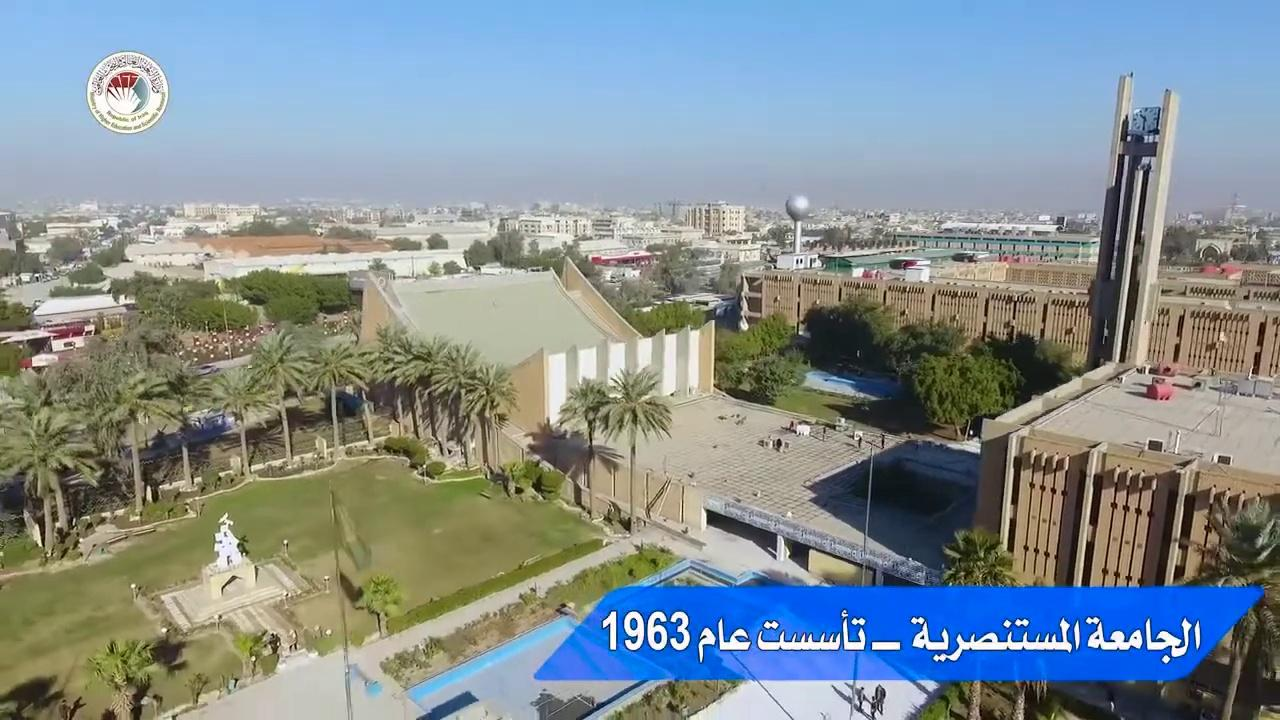fountain: (399, 610, 679, 717)
tree: (1170, 487, 1279, 718), (367, 321, 518, 473), (0, 368, 100, 563), (937, 525, 1025, 718), (597, 364, 673, 534), (98, 370, 180, 516), (911, 348, 1021, 440), (145, 353, 211, 489), (246, 328, 309, 464), (556, 374, 614, 516), (303, 341, 369, 460), (207, 364, 271, 475), (458, 362, 519, 477), (428, 340, 485, 462), (400, 332, 454, 449), (600, 677, 744, 719), (369, 322, 421, 438), (85, 636, 155, 718), (939, 525, 1019, 586), (354, 573, 401, 638), (231, 628, 269, 681), (382, 433, 428, 467), (503, 457, 542, 495), (1010, 679, 1047, 718), (461, 238, 493, 274), (184, 671, 209, 706)
